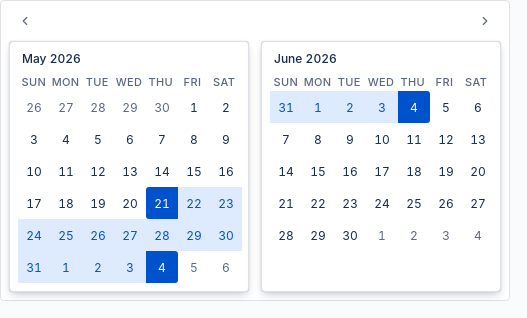
Test case: InlineDateRangePicker › external chevrons step the cursor (both grids advance/retreat)
The width and height of the screenshot is (527, 318).
Step 1. Click the button named "Next month" → [485, 21], box [473,9,497,33]
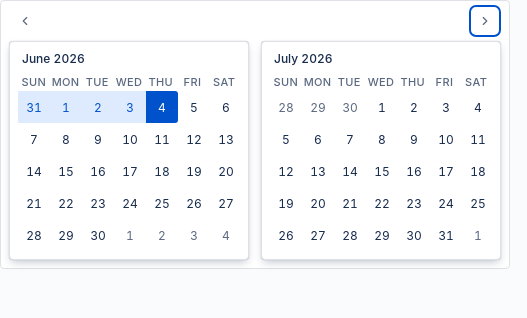
Expected: the text "June 2026" is shown, [22,50,85,67]
Expected: the text "July 2026" is shown, [274,50,332,67]
Step 2. Click the button named "Previous month" → [25, 21], box [13,9,37,33]
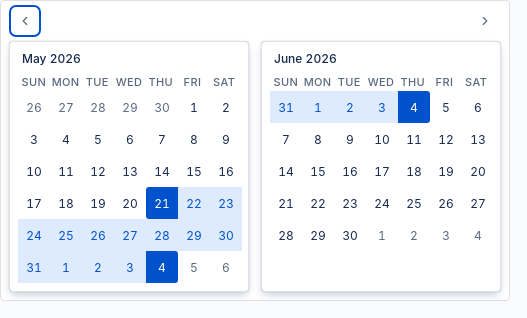
Step 3. Click the button named "Previous month" → [25, 21], box [13,9,37,33]
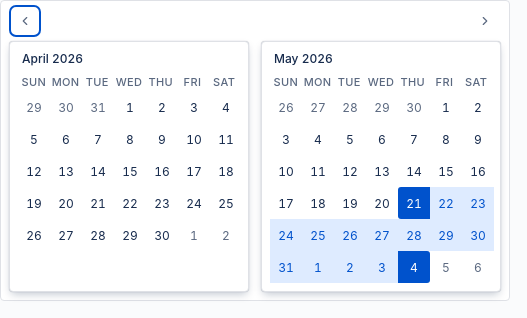
Expected: the text "April 2026" is shown, [22,50,83,67]
Expected: the text "May 2026" is shown, [274,50,333,67]
